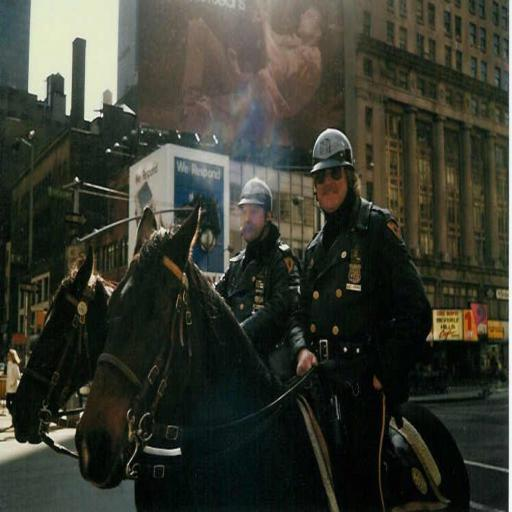horse: (72, 190, 472, 512), (10, 243, 118, 447)
